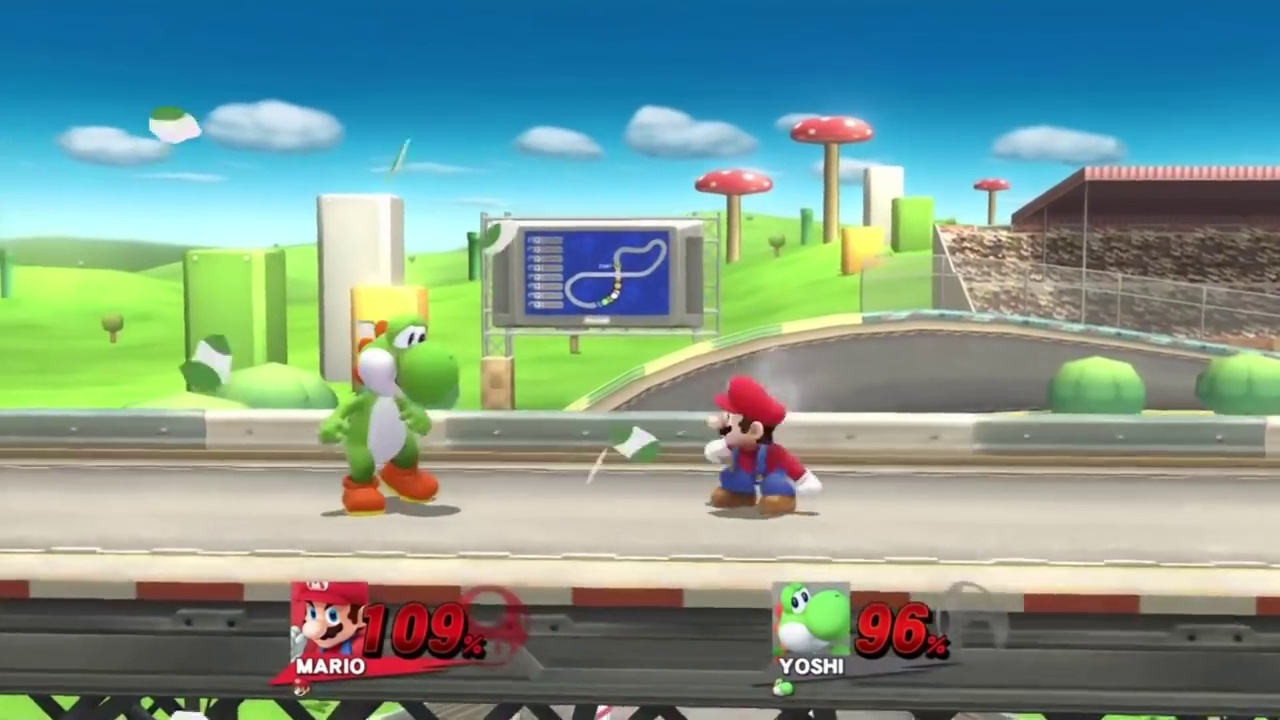Mario: (705, 378, 823, 516)
